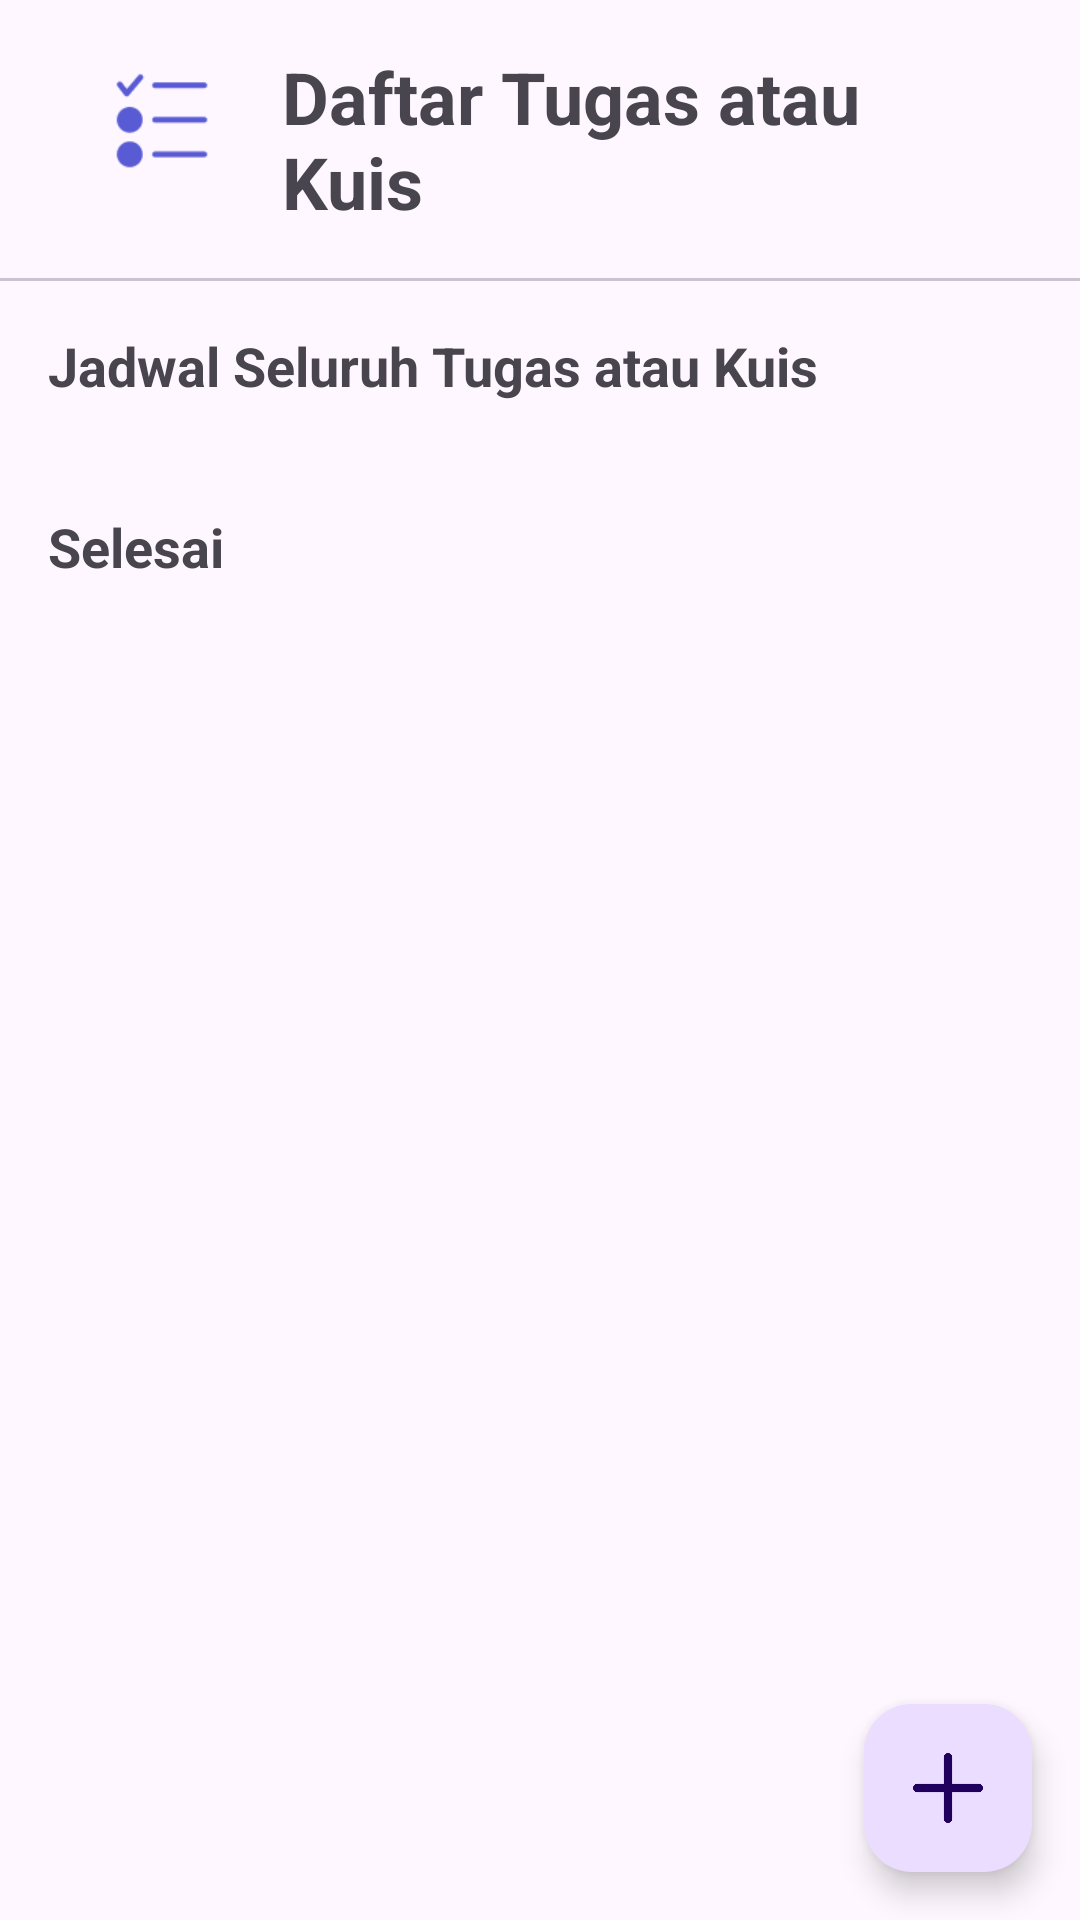

Icon bounding boxes for this 1080 x 1920 phone screenshot, format bbox(x1, y1, x2, y2):
add: bbox(864, 1704, 1032, 1872)
task: bbox(116, 74, 208, 168)
